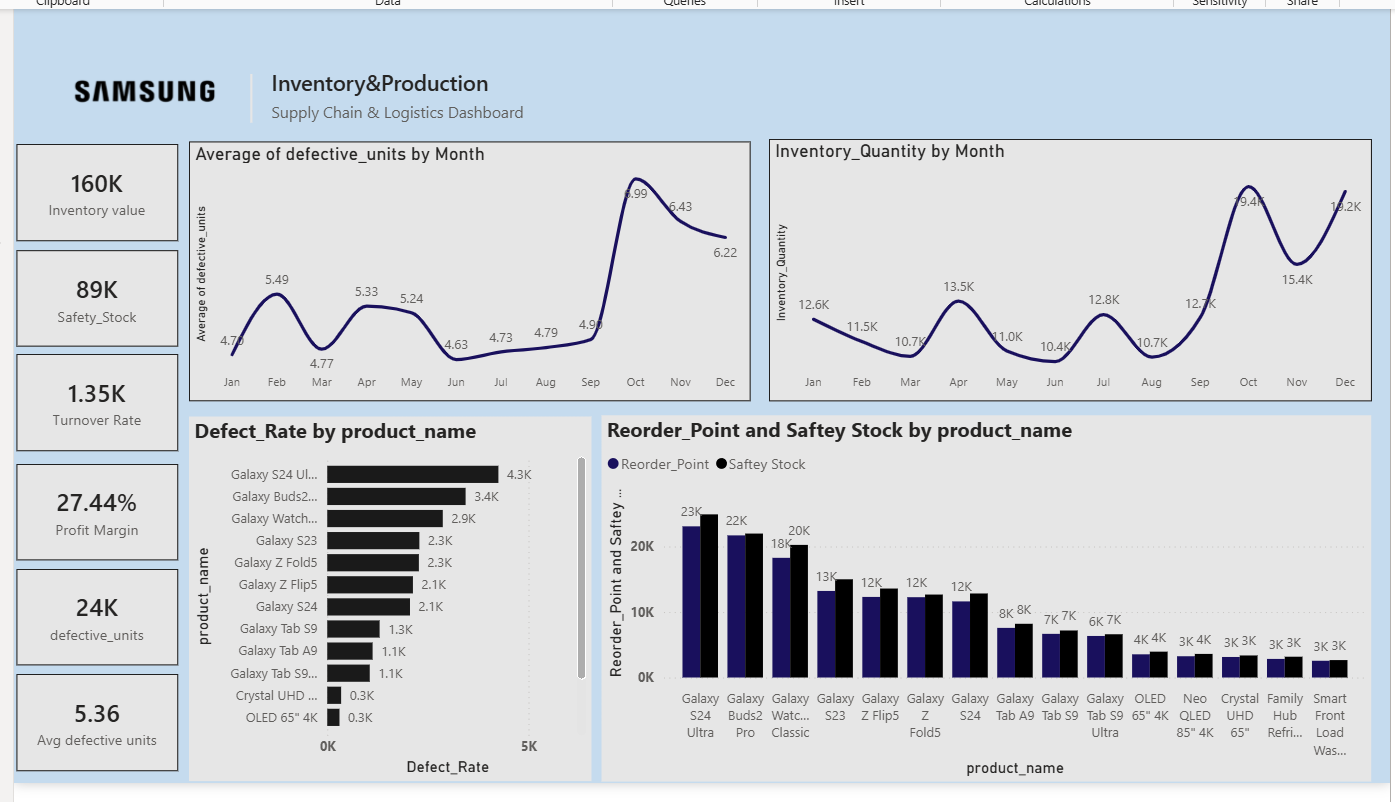

The page's visual inventory and layout, read from the dashboard file:
{"tool":"powerbi","page":{"name":"Inventory","canvas":[1280,720],"ordinal":3},"visuals":[{"type":"actionButton","title":"Inventory&Production","box":[239.5,54.7,239.5,66.3],"z":0},{"type":"actionButton","box":[0,0,237.2,152.3],"z":1000},{"type":"shape","box":[199,60.4,43.9,45.3],"z":2000},{"type":"cardVisual","fields":{"Data":["MeasuresTable.Safety_Stock"]},"box":[2.3,224,150,89.5],"z":3000},{"type":"cardVisual","fields":{"Data":["MeasuresTable.1 Turnover Rate"]},"box":[2.5,321.5,150,90.7],"z":4000},{"type":"cardVisual","fields":{"Data":["Avg(fact_production.defective_units)"]},"box":[2.3,618.6,150,90.7],"z":5000},{"type":"cardVisual","fields":{"Data":["Sum(fact_production.defective_units)"]},"box":[2.3,521.2,150,89.5],"z":6000},{"type":"cardVisual","fields":{"Data":["MeasuresTable.Profit Margin %"]},"box":[2.3,423.7,150,89.5],"z":7000},{"type":"cardVisual","fields":{"Data":["MeasuresTable.Inventory_Quantity"]},"box":[2.3,125.4,150,90.7],"z":8000},{"type":"clusteredBarChart","fields":{"Category":["dim_product.product_name"],"Y":["MeasuresTable.Defect_Rate"]},"box":[162.8,379.1,374.4,339.5],"z":9000},{"type":"clusteredColumnChart","fields":{"Category":["dim_product.product_name"],"Y":["MeasuresTable.Reorder_Point","MeasuresTable.Inventory_Quantity"]},"box":[546.5,377.9,716.3,340.7],"z":10000},{"type":"lineChart","fields":{"Y":["Avg(fact_production.defective_units)"],"Category":["dim_date.Month_Short"]},"box":[162.8,123.4,522.1,241.9],"z":11000},{"type":"lineChart","fields":{"Category":["dim_date.Month_Short"],"Y":["MeasuresTable.Inventory_Quantity"]},"box":[702.3,120.9,560.5,244.2],"z":12000}]}

Visuals, with their boxes on the page's 1280x720 design canvas (x1, y1, x2, y2). These are canvas units, not pixel positions in the 1395x802 screenshot, which may show the page scaled, cropped or inside an application window:
"Inventory&Production" actionButton: [x1=240, y1=55, x2=479, y2=121]
actionButton: [x1=0, y1=0, x2=237, y2=152]
shape: [x1=199, y1=60, x2=243, y2=106]
cardVisual - MeasuresTable.Safety_Stock: [x1=2, y1=224, x2=152, y2=314]
cardVisual - MeasuresTable.1 Turnover Rate: [x1=2, y1=322, x2=152, y2=412]
cardVisual - Avg(fact_production.defective_units): [x1=2, y1=619, x2=152, y2=709]
cardVisual - Sum(fact_production.defective_units): [x1=2, y1=521, x2=152, y2=611]
cardVisual - MeasuresTable.Profit Margin %: [x1=2, y1=424, x2=152, y2=513]
cardVisual - MeasuresTable.Inventory_Quantity: [x1=2, y1=125, x2=152, y2=216]
clusteredBarChart - dim_product.product_name x MeasuresTable.Defect_Rate: [x1=163, y1=379, x2=537, y2=719]
clusteredColumnChart - dim_product.product_name x MeasuresTable.Reorder_Point: [x1=546, y1=378, x2=1263, y2=719]
lineChart - Avg(fact_production.defective_units) x dim_date.Month_Short: [x1=163, y1=123, x2=685, y2=365]
lineChart - dim_date.Month_Short x MeasuresTable.Inventory_Quantity: [x1=702, y1=121, x2=1263, y2=365]
